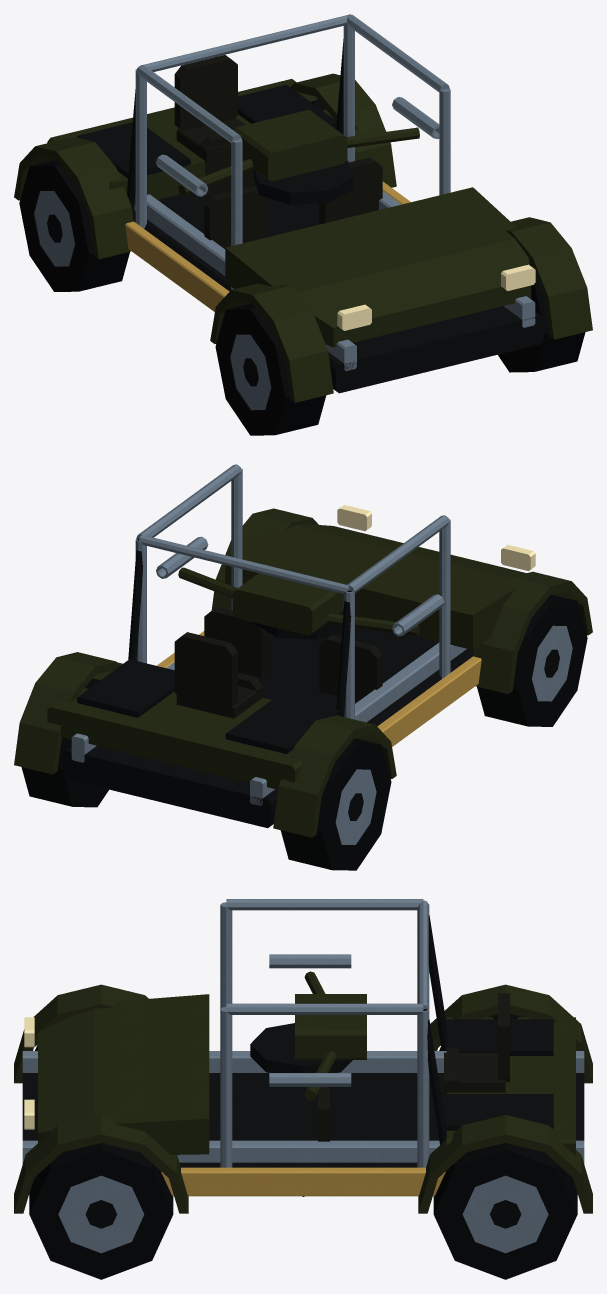
The model's file is puma-lod2.glb.
3 views of the same model, one above another, from view 1: azimuth 30°, elevation 25°; view 2: azimuth 150°, elevation 25°; view 3: azimuth 270°, elevation 25° (orthographic). The views are drawn at different scales.
Visible parts, largest first — view 1: body, turret, wheel_1, wheel_0, wheel_3; view 2: body, turret, wheel_0, wheel_1, wheel_2; view 3: body, wheel_2, wheel_3, turret.
Boxes of the visible parts, x1,y1,x2,y2 form: body: [14, 14, 592, 402]; turret: [156, 97, 439, 204]; wheel_1: [215, 303, 326, 435]; wheel_0: [19, 159, 129, 291]; wheel_3: [498, 262, 585, 372]; body: [14, 464, 592, 837]; turret: [156, 536, 444, 639]; wheel_0: [280, 738, 391, 870]; wheel_1: [477, 594, 587, 726]; wheel_2: [21, 678, 108, 807]; body: [14, 899, 592, 1213]; wheel_2: [433, 1143, 577, 1279]; wheel_3: [29, 1143, 173, 1279]; turret: [250, 954, 366, 1100].
Size of the model in its own units: 2.1 by 1.62 by 3.38.
7 materials, 6 textured.
